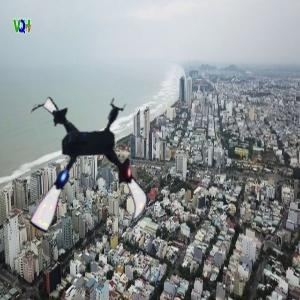drone: (11, 91, 168, 248)
